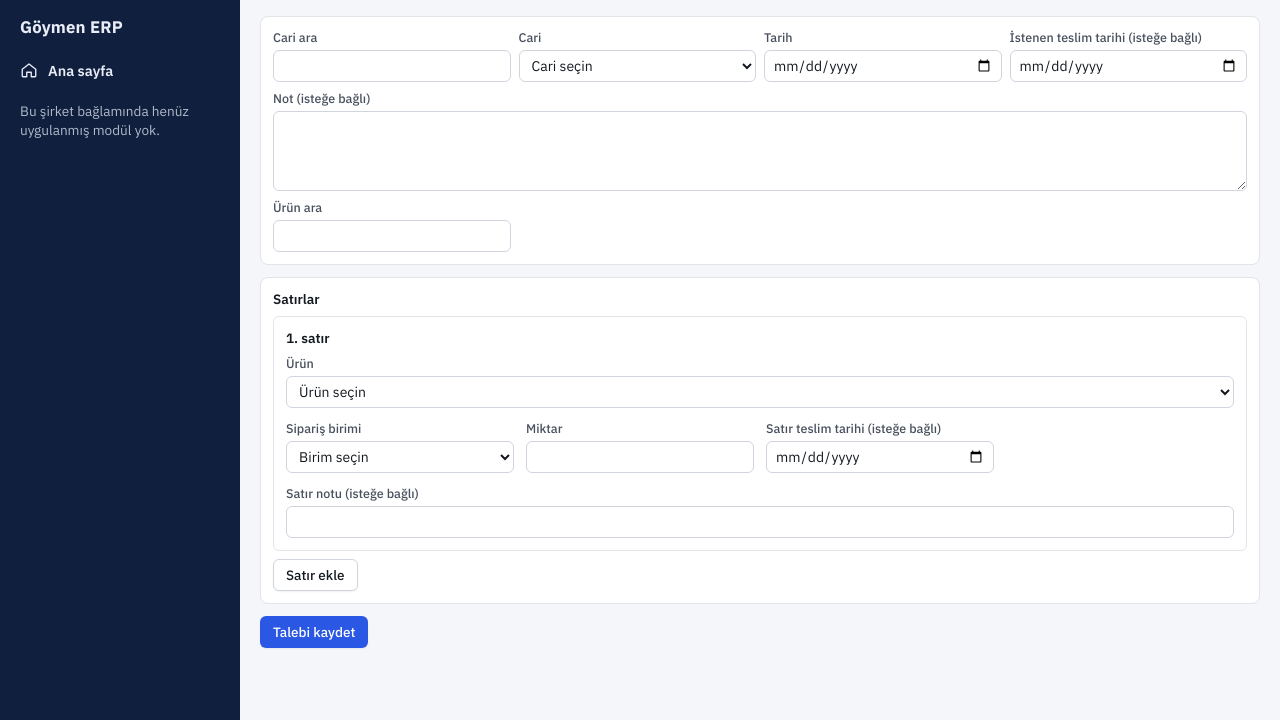
Scenario: Yeni talep › shows the client errors in a summary and sends nothing
This screenshot has width=1280, height=720.
(page scrolled)
What coordinates should you click on to do the following:
click the button "Talebi kaydet"
I would click on:
 (314, 632)
Its box is [260,616,368,648].
(page scrolled)
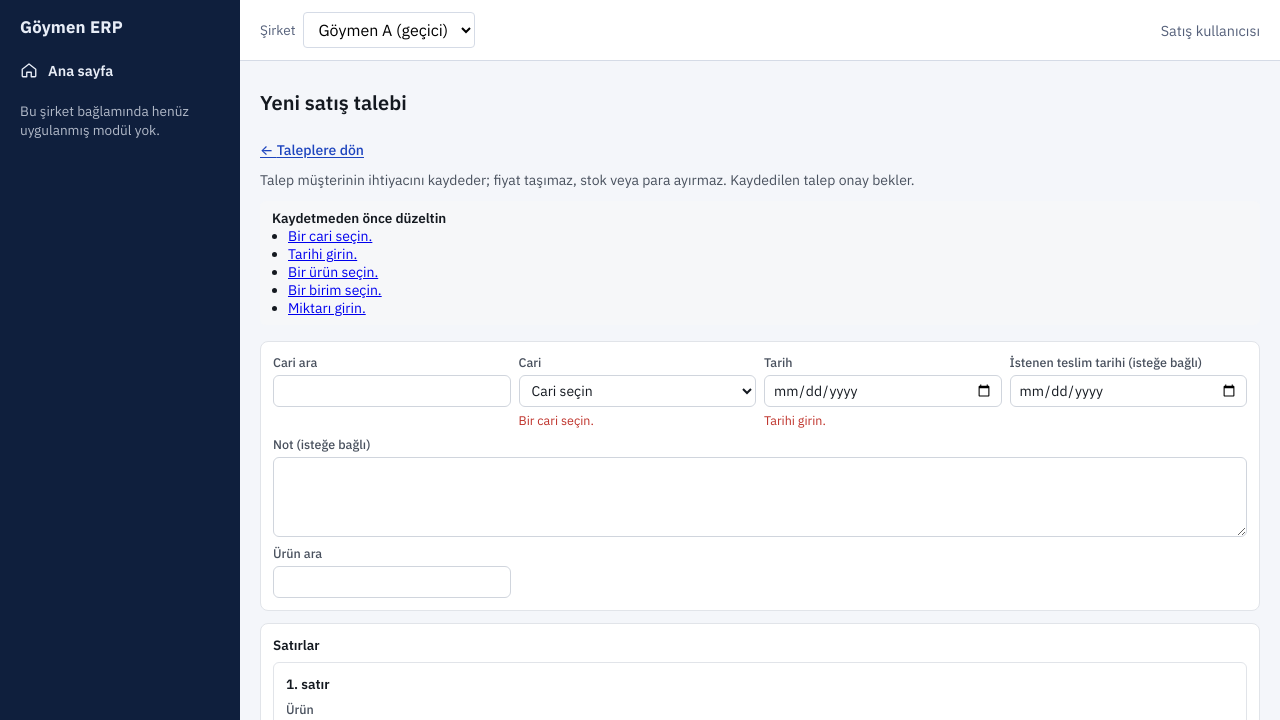
Now the link "Bir cari seçin." is shown, box [288,227,372,245]
